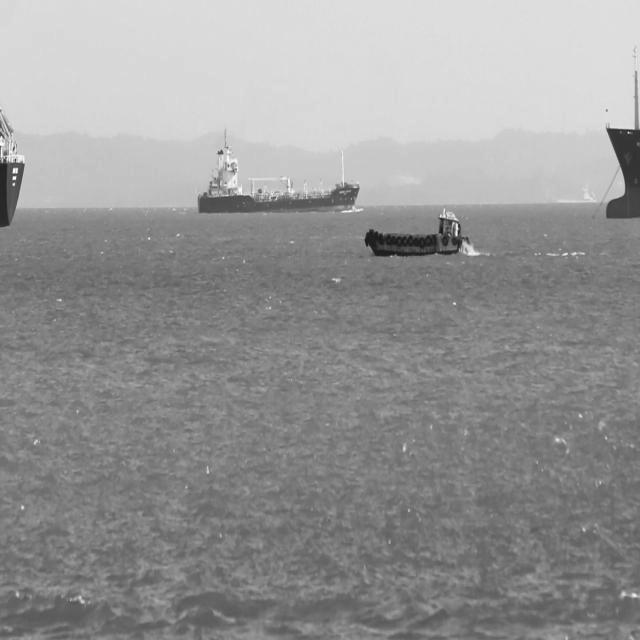ship: (197, 126, 360, 216), (364, 204, 472, 258), (606, 44, 639, 219), (0, 103, 25, 227)
